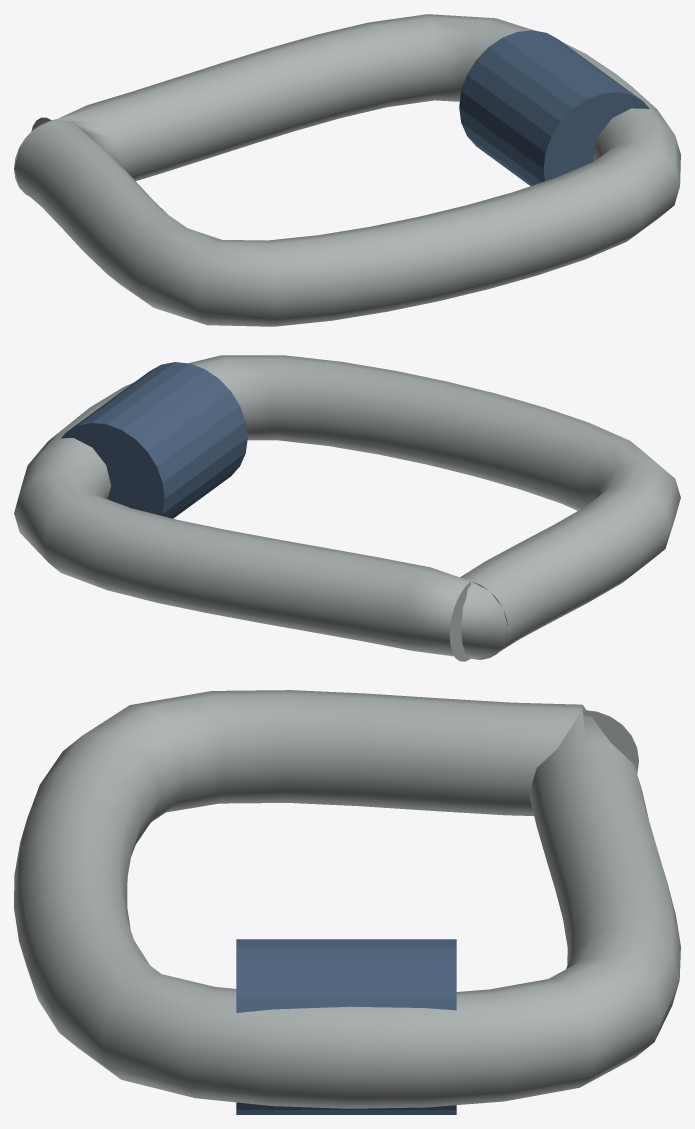
File: spacecraft-parachute-packing-hall-spacecraft-parachute-f6ef1e38__32115.glb
3 views of the same model, one above another, from view 1: azimuth 30°, elevation 25°; view 2: azimuth 150°, elevation 25°; view 3: azimuth 270°, elevation 25° (orthographic). The views are drawn at different scales.
Parts seen in each view (by area): view 1: spacecraft-parachute-packing-hall-riser-connector-link; view 2: spacecraft-parachute-packing-hall-riser-connector-link; view 3: spacecraft-parachute-packing-hall-riser-connector-link.
Part boxes in pixels (x1=…): spacecraft-parachute-packing-hall-riser-connector-link: x1=14, y1=14, x2=680, y2=326; spacecraft-parachute-packing-hall-riser-connector-link: x1=14, y1=355, x2=680, y2=661; spacecraft-parachute-packing-hall-riser-connector-link: x1=14, y1=690, x2=680, y2=1114.
Size of the model in its own units: 0.133 by 0.028 by 0.106.
